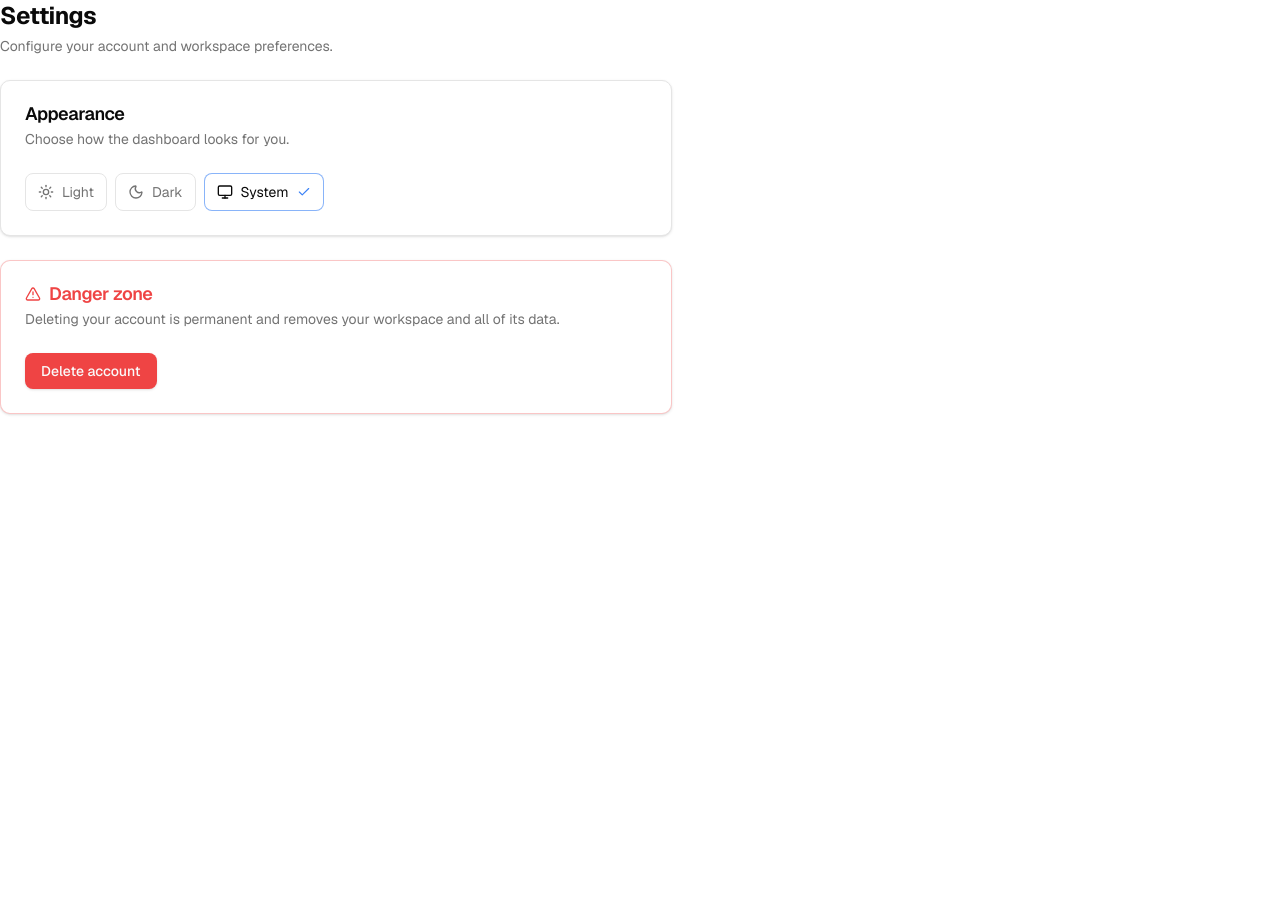
Test: SettingsPage › requires entering the account password to enable account deletion
This screenshot has width=1280, height=900.
Click the button "Delete account". click: (91, 371)
box: [25,353,156,389]
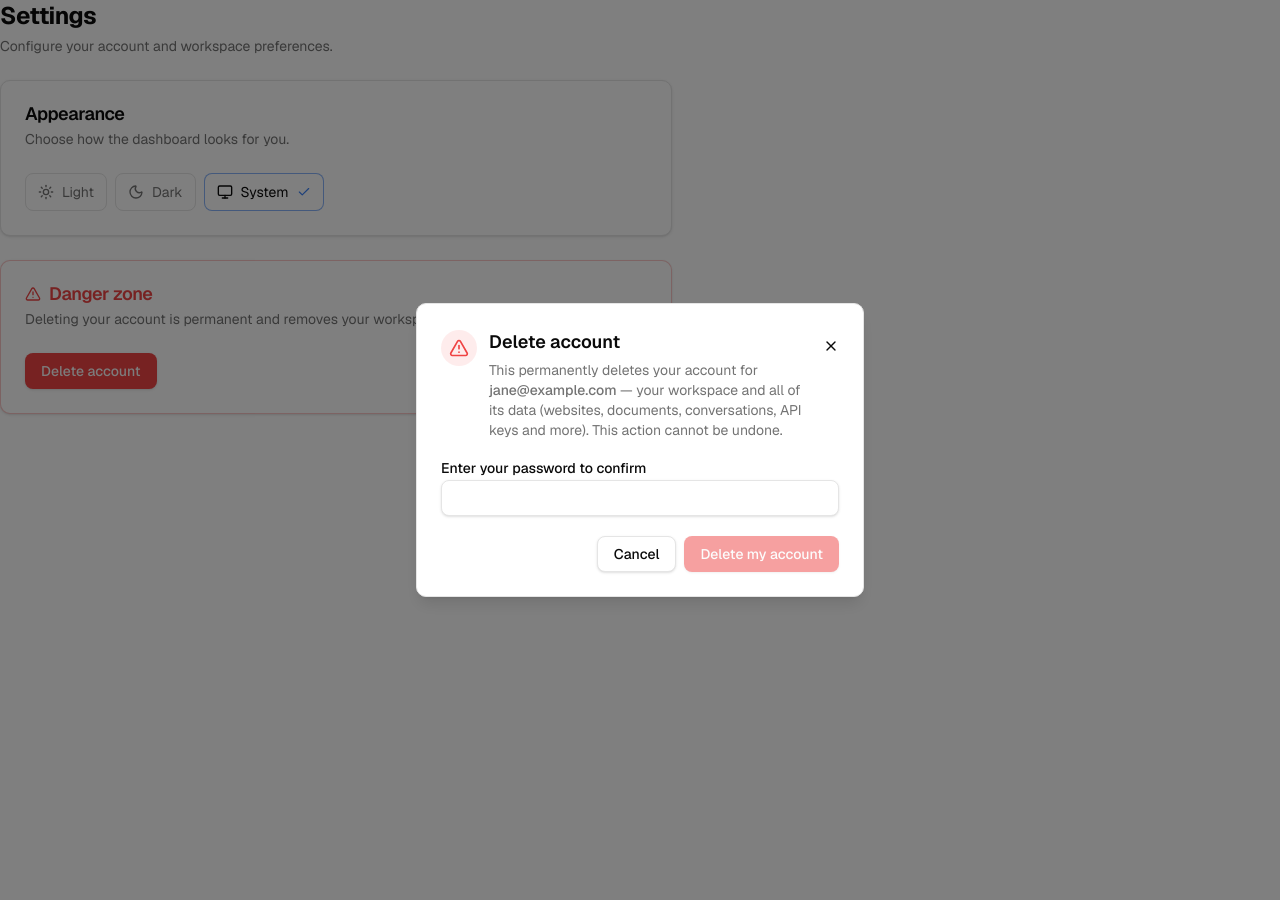
Check: the button with test id "delete-account-confirm" is disabled, box [684,536,839,572]
Type "Str0ng!Pass" into the password field labelled "Enter your password to confirm". click: (640, 498)
box: [441,480,839,516]
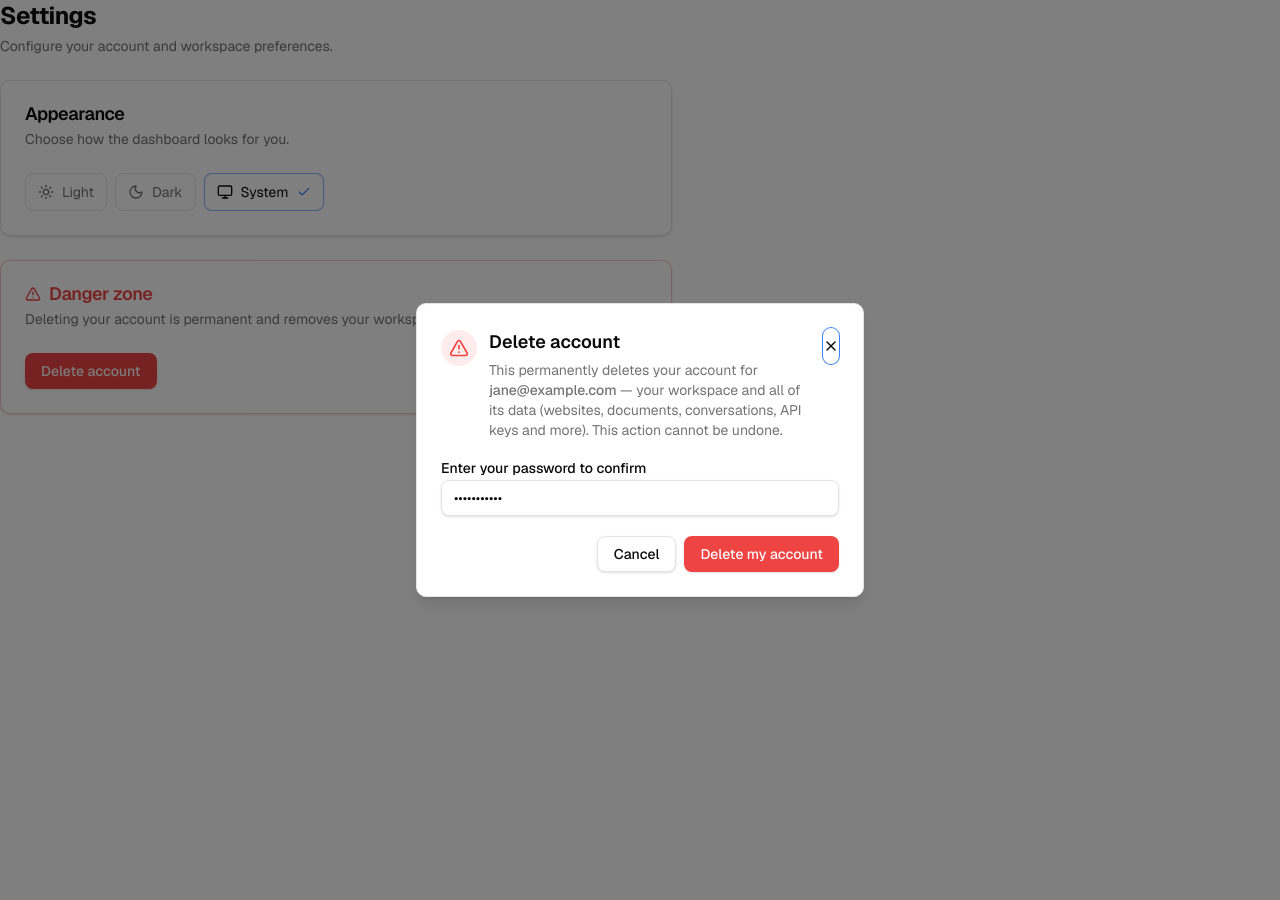
Check: the button with test id "delete-account-confirm" is enabled, box [684,536,839,572]
